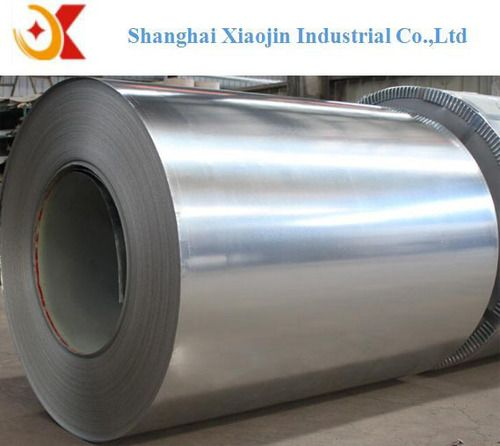steel-coilq: (0, 77, 497, 376), (16, 77, 497, 376)
